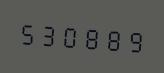eight: (81, 19, 101, 54), (102, 21, 122, 55)
five: (17, 15, 37, 49)
nine: (123, 22, 143, 57)
three: (38, 17, 58, 51)
zero: (60, 18, 80, 52)
